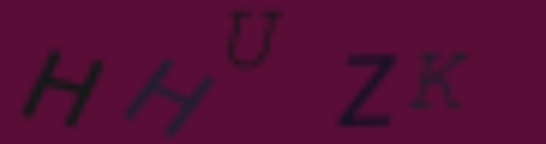H: (121, 52, 211, 139), (16, 46, 107, 129)
K: (403, 49, 474, 114)
U: (220, 6, 296, 73)
Z: (332, 49, 404, 131)
